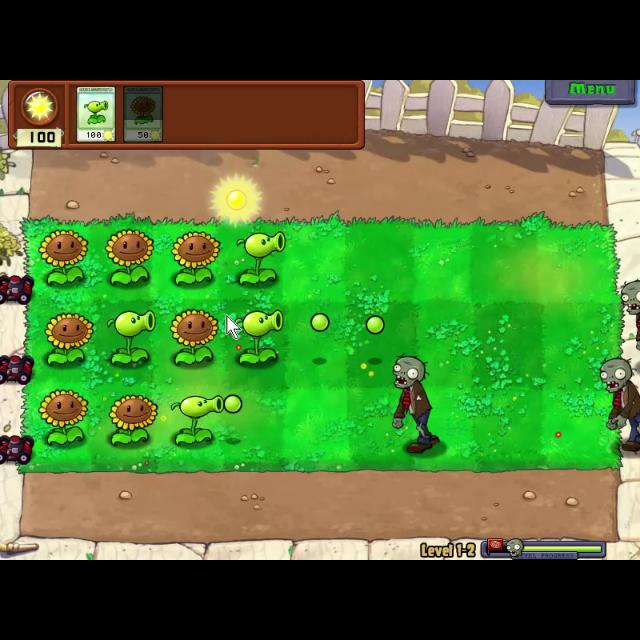Garden: (16, 213, 628, 474)
Menu Button: (544, 80, 636, 108)
Mower: (1, 352, 36, 388), (0, 272, 36, 304), (1, 432, 34, 466)
Peashooter: (76, 85, 116, 143)
Peashooter Seed: (231, 224, 287, 290), (228, 308, 288, 366), (104, 308, 160, 368), (170, 397, 232, 449)
Seed Panel: (4, 80, 370, 154)
Sun: (210, 175, 262, 225)
Sunflower: (122, 82, 166, 144)
Sunflower Seed: (165, 228, 223, 288), (168, 305, 222, 369), (105, 389, 161, 449), (34, 387, 88, 449), (102, 225, 154, 289), (35, 226, 89, 286), (42, 310, 96, 368)
Zombie: (388, 352, 447, 456), (594, 354, 640, 454), (620, 280, 640, 354)
